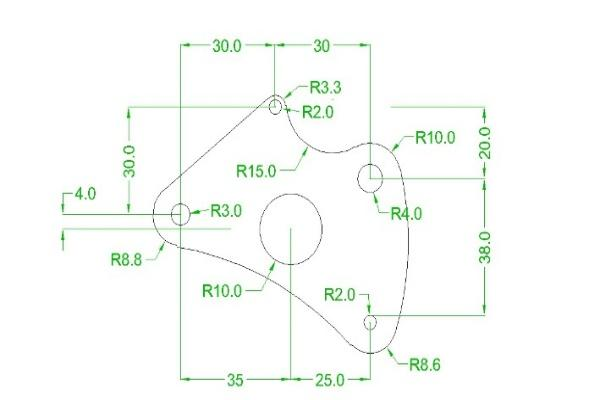dimensions: (408, 123, 457, 150), (400, 351, 446, 377), (311, 282, 361, 303), (195, 280, 246, 300), (472, 226, 496, 264), (108, 247, 146, 271), (118, 142, 142, 180), (234, 160, 278, 180), (308, 73, 344, 96), (206, 35, 247, 55), (298, 102, 336, 123), (388, 205, 429, 224), (314, 371, 349, 392), (70, 182, 103, 204), (304, 36, 336, 58), (209, 201, 246, 220), (475, 124, 494, 160), (225, 368, 247, 388)
